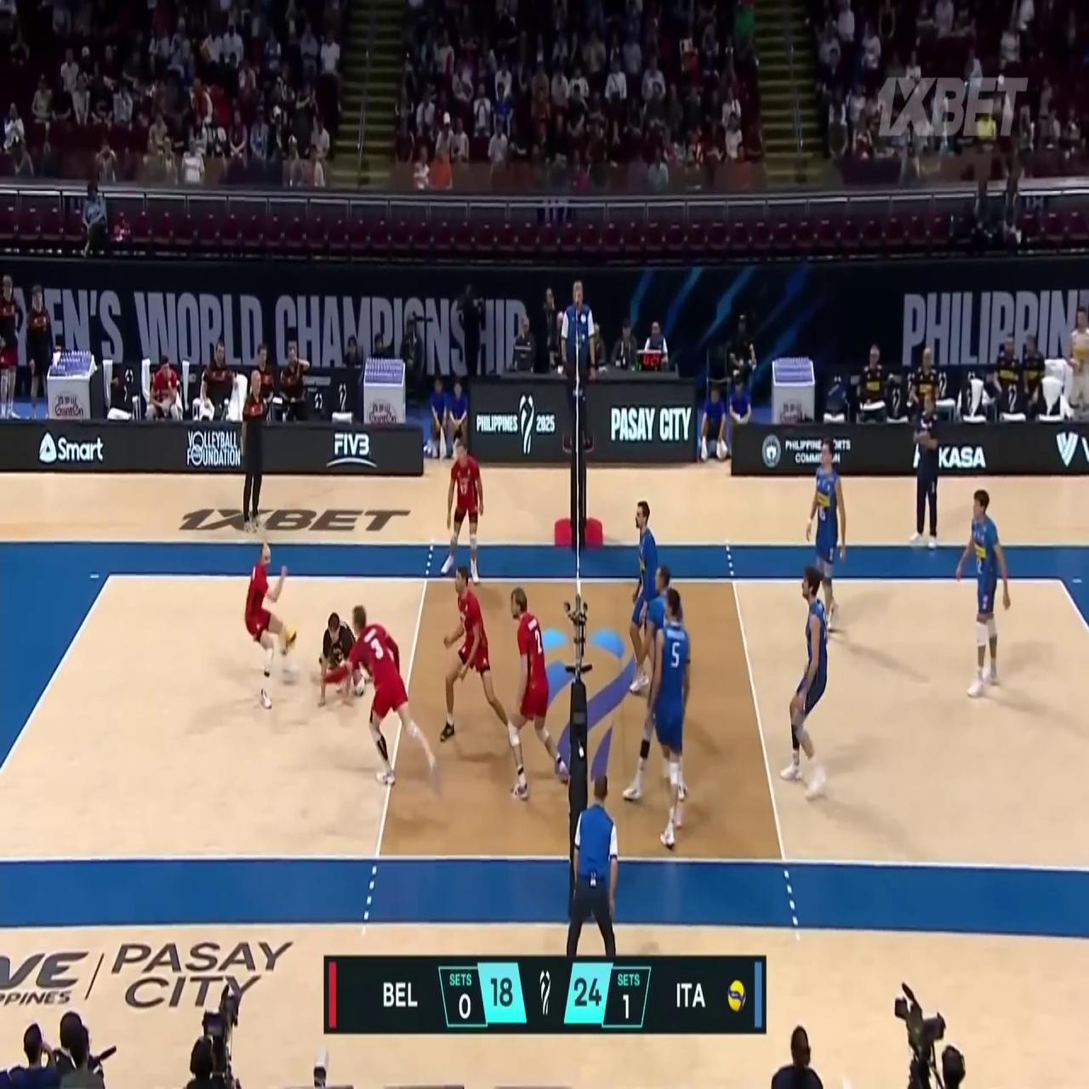ball: (285, 624, 297, 649)
